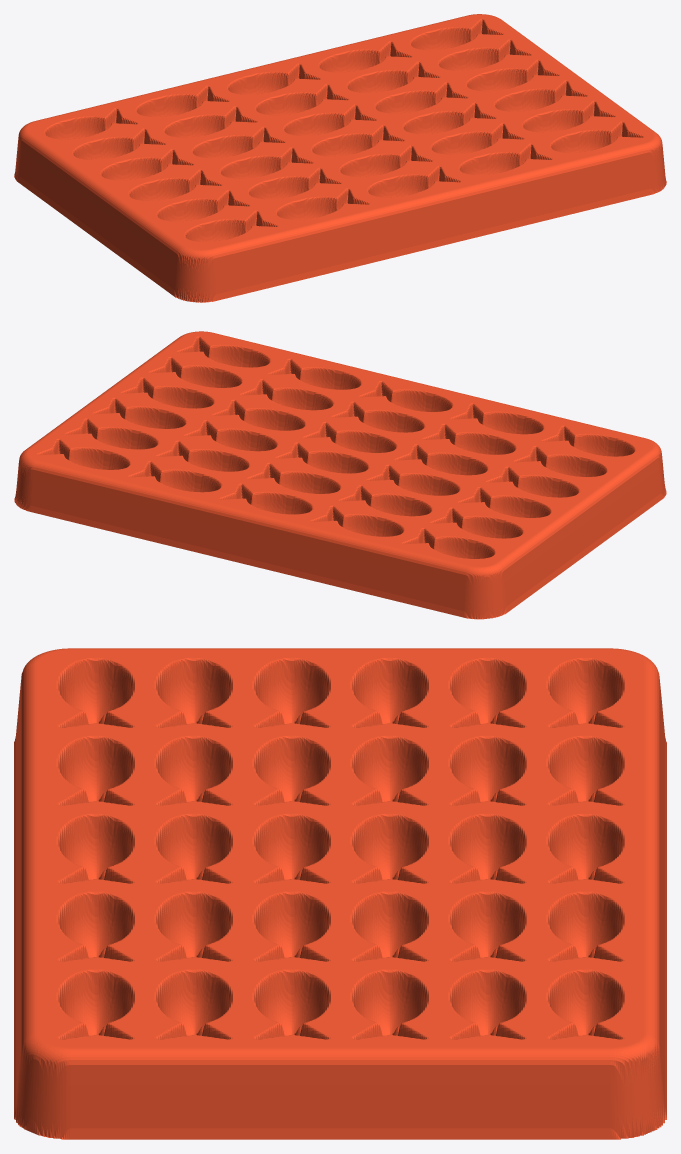
Rendered from mold.glb.
3 views of the same model, one above another, from view 1: azimuth 30°, elevation 25°; view 2: azimuth 150°, elevation 25°; view 3: azimuth 270°, elevation 25° (orthographic). The views are drawn at different scales.
Visible parts, largest first — view 1: geometry_0; view 2: geometry_0; view 3: geometry_0.
Boxes of the visible parts, x1,y1,x2,y2 form: geometry_0: (14,14,666,302); geometry_0: (14,331,666,619); geometry_0: (14,648,666,1139).
Size of the model in its own units: 0.1578 by 0.0145 by 0.1044.
